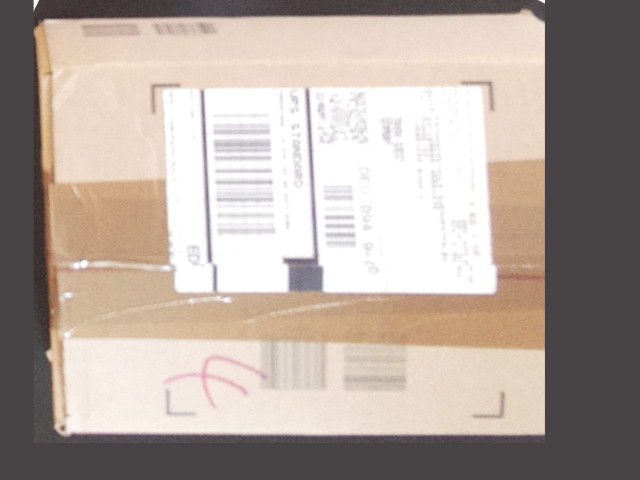cardboard: (36, 17, 544, 433)
